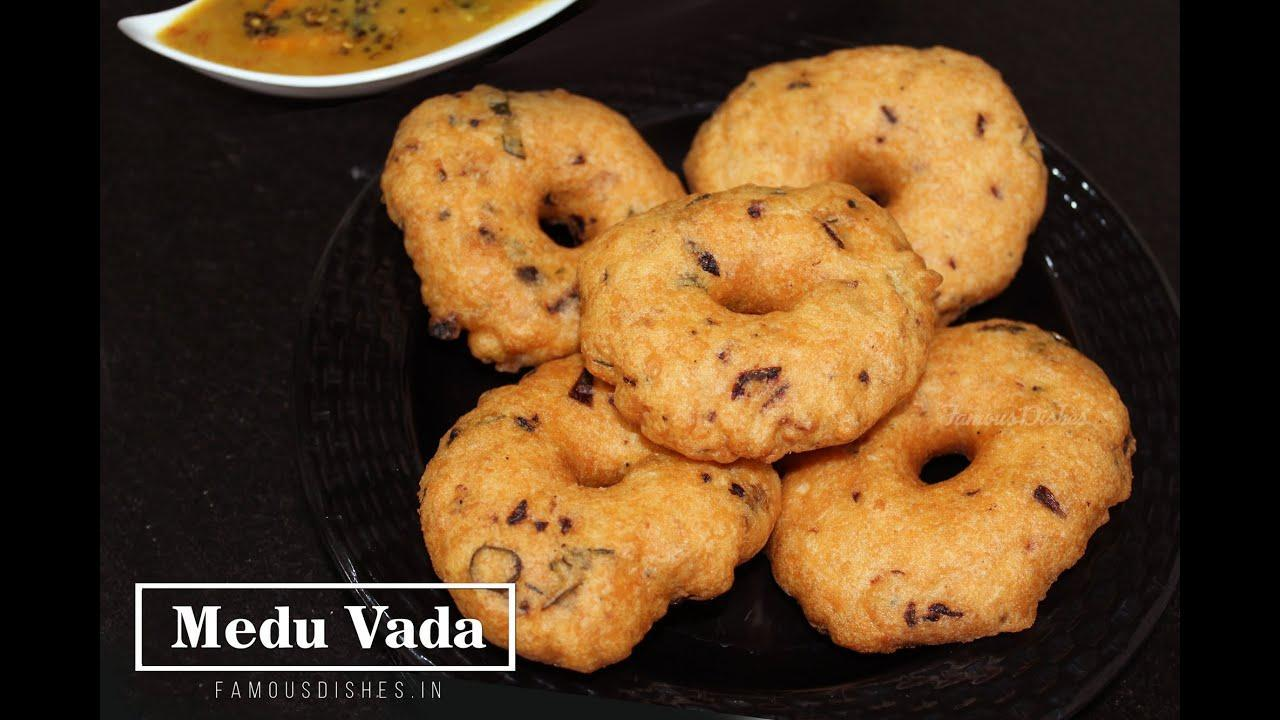mvada: (471, 116, 1054, 539)
